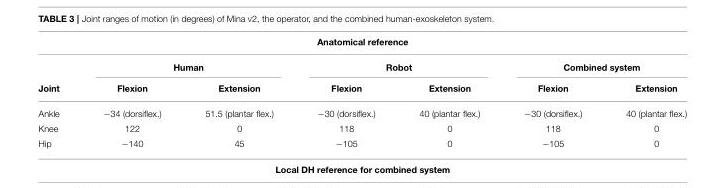table: (37, 37, 686, 148)
table column: (182, 37, 294, 148), (396, 37, 501, 148), (80, 37, 182, 148), (294, 37, 396, 148), (501, 37, 603, 148), (603, 37, 686, 148), (37, 37, 80, 148)
table column header: (37, 37, 686, 100)
table row: (37, 54, 686, 77), (37, 77, 686, 100), (37, 100, 686, 120), (37, 37, 686, 54), (37, 120, 686, 136), (37, 136, 686, 148)
table spanning cell: (37, 37, 686, 54), (80, 54, 294, 77), (294, 54, 501, 77), (501, 54, 686, 77), (37, 54, 80, 100)
